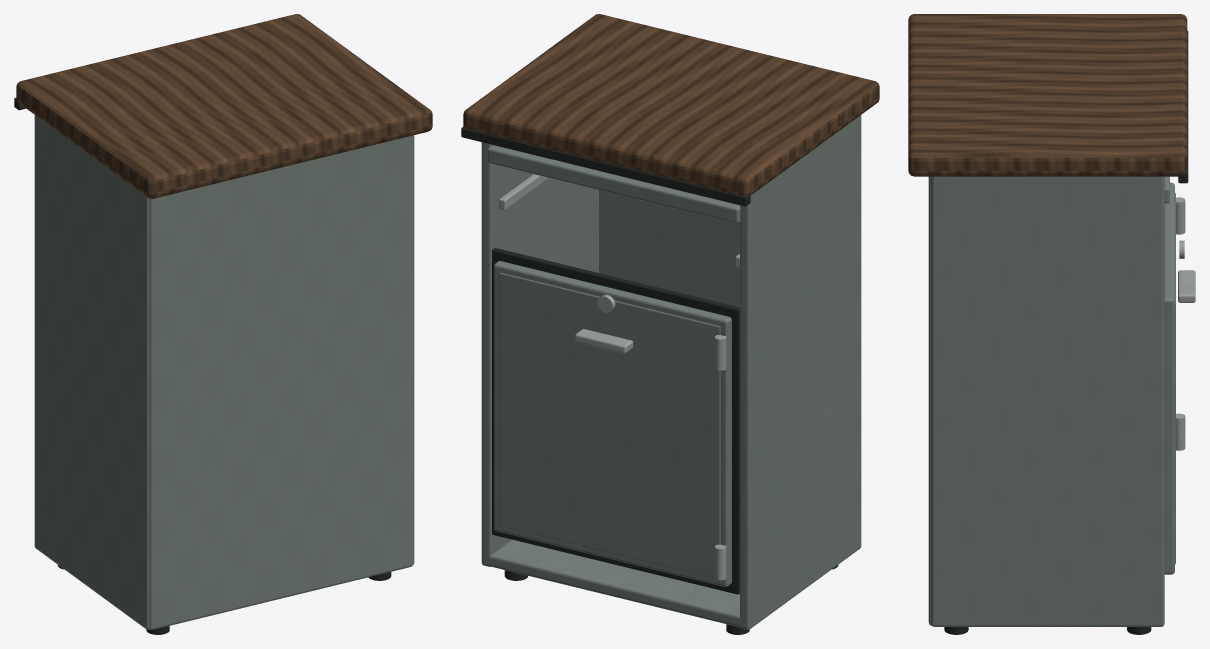
File: SM_Office_ServiceCabinet.fbx
3 renders of one model, left to right at view 1: azimuth 30°, elevation 25°; view 2: azimuth 150°, elevation 25°; view 3: azimuth 270°, elevation 25°, orthographic. The views are drawn at different scales.
Parts seen in each view (by area): view 1: SM_Office_ServiceCabinet; view 2: SM_Office_ServiceCabinet; view 3: SM_Office_ServiceCabinet.
Part boxes in pixels (x1,y1,x2,y2): SM_Office_ServiceCabinet: (14, 14, 432, 634); SM_Office_ServiceCabinet: (461, 14, 879, 634); SM_Office_ServiceCabinet: (908, 14, 1195, 634).
Size of the model in its own units: 0.67 by 0.5665 by 1.07.
